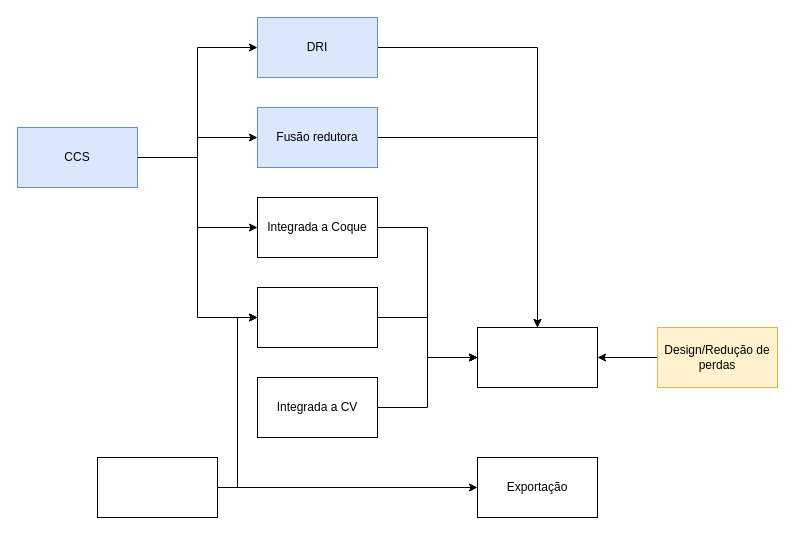
This 795x535 diagram has some shape labels left out. Each missing label, with the centre of its shape:
Demanda de aço: point (537, 357)
EAF: point (317, 317)
Produção independente de ferro-gusa: point (157, 487)
